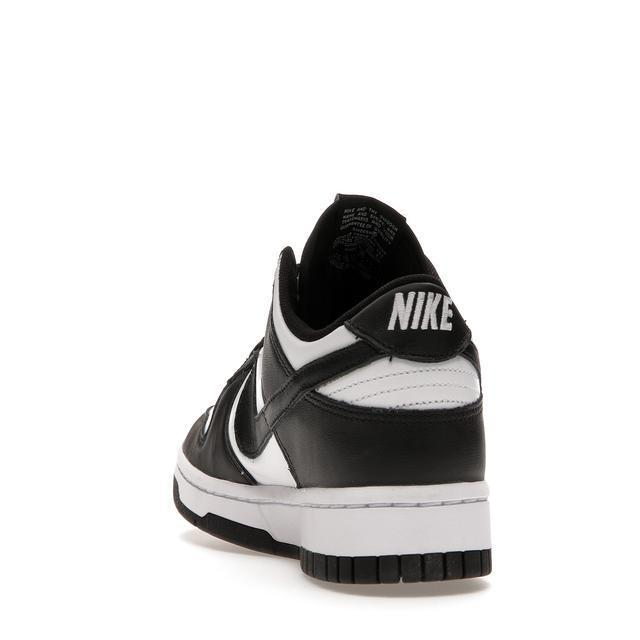J1_InsoleChar: (170, 190, 495, 587)
J1_StitchPattern: (171, 466, 494, 585), (253, 351, 482, 439), (315, 360, 482, 411), (297, 545, 493, 585), (326, 201, 402, 272), (384, 287, 458, 335)
